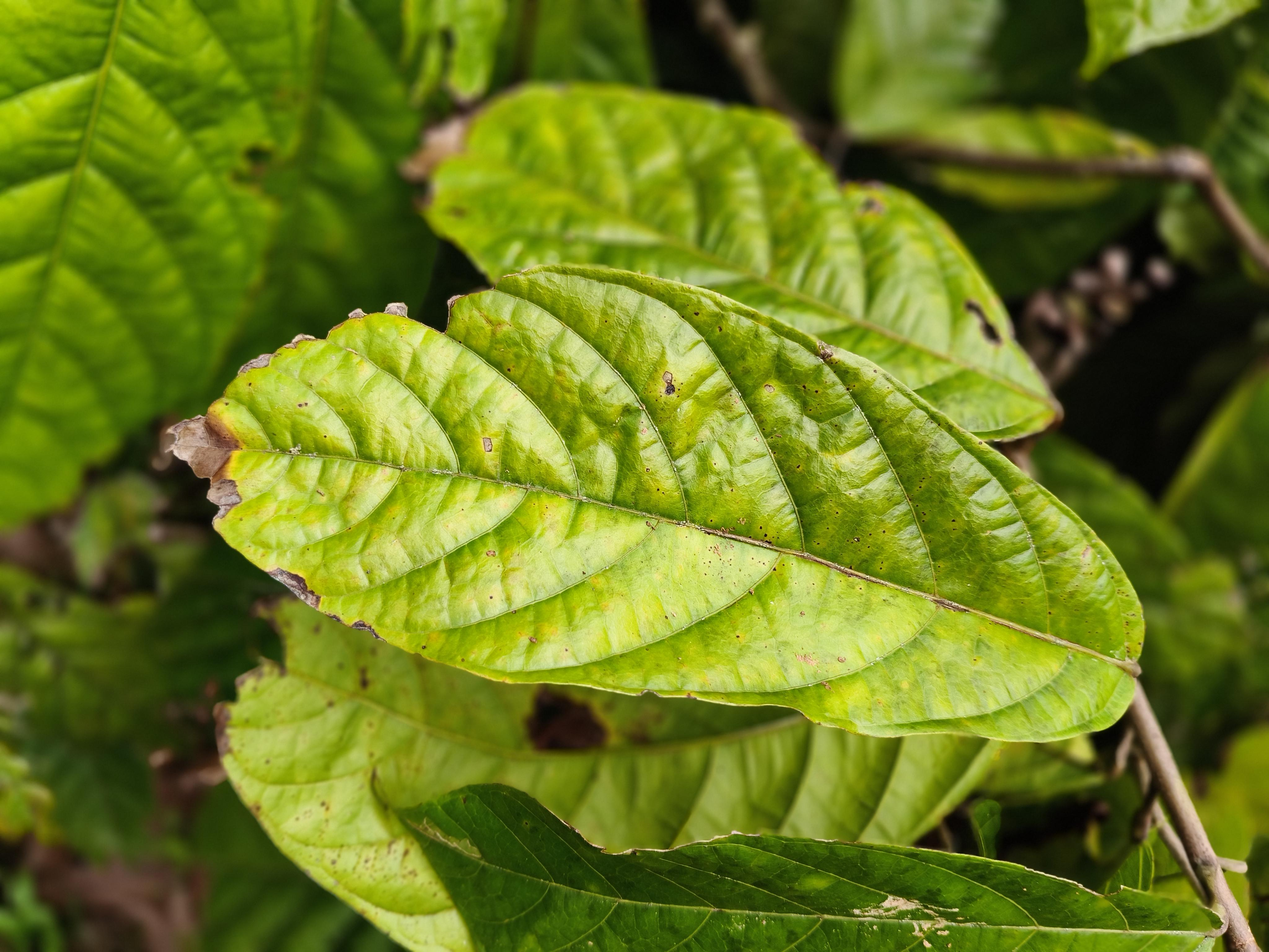deficiencia_potasio: (158, 241, 1178, 754)
